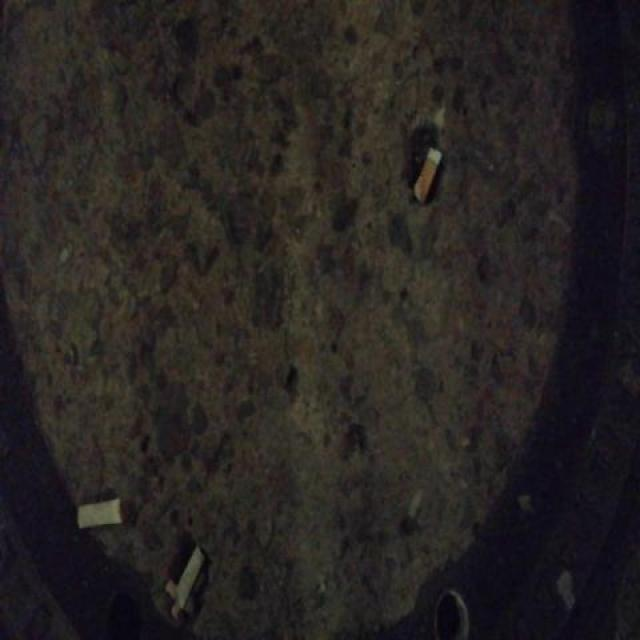non-organic waste: (172, 540, 211, 612), (410, 142, 445, 209), (71, 494, 128, 534)
